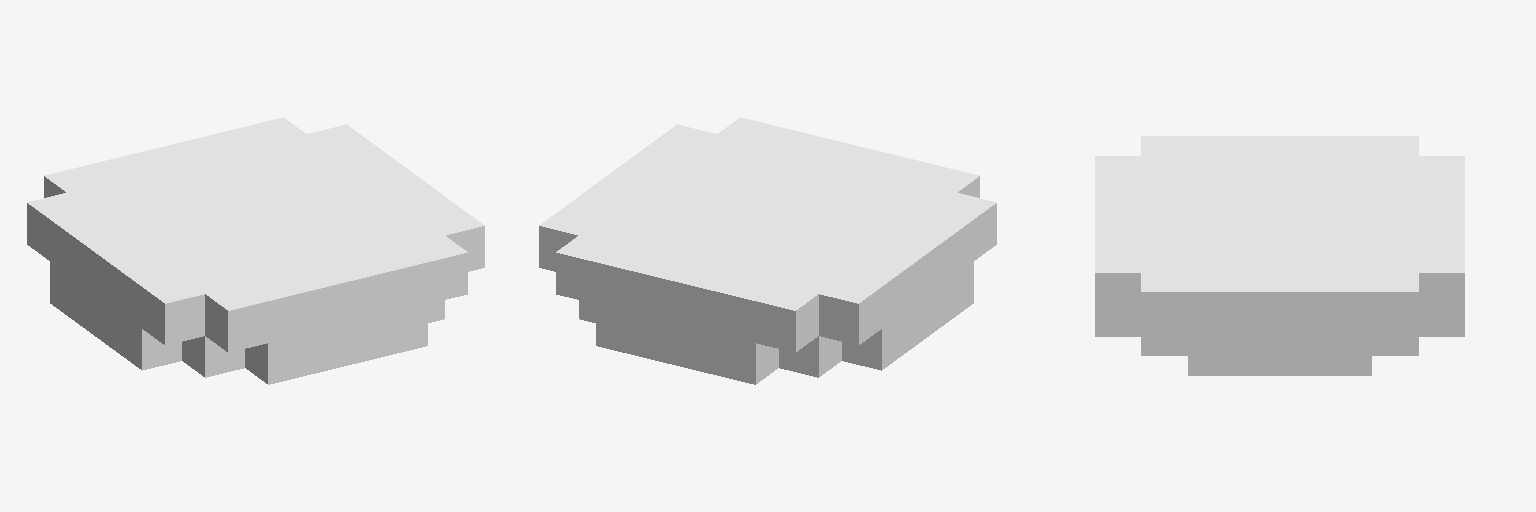
The model's file is pants2.obj.
3 renders of one model, left to right at view 1: azimuth 30°, elevation 25°; view 2: azimuth 150°, elevation 25°; view 3: azimuth 270°, elevation 25°, orthographic.
Visible parts, largest first — view 1: object 1; view 2: object 1; view 3: object 1.
Boxes of the visible parts, x1,y1,x2,y2 form: object 1: [27, 117, 484, 384]; object 1: [539, 117, 996, 384]; object 1: [1095, 136, 1464, 375].
Size of the model in its own units: 0.8 by 0.2 by 0.8.